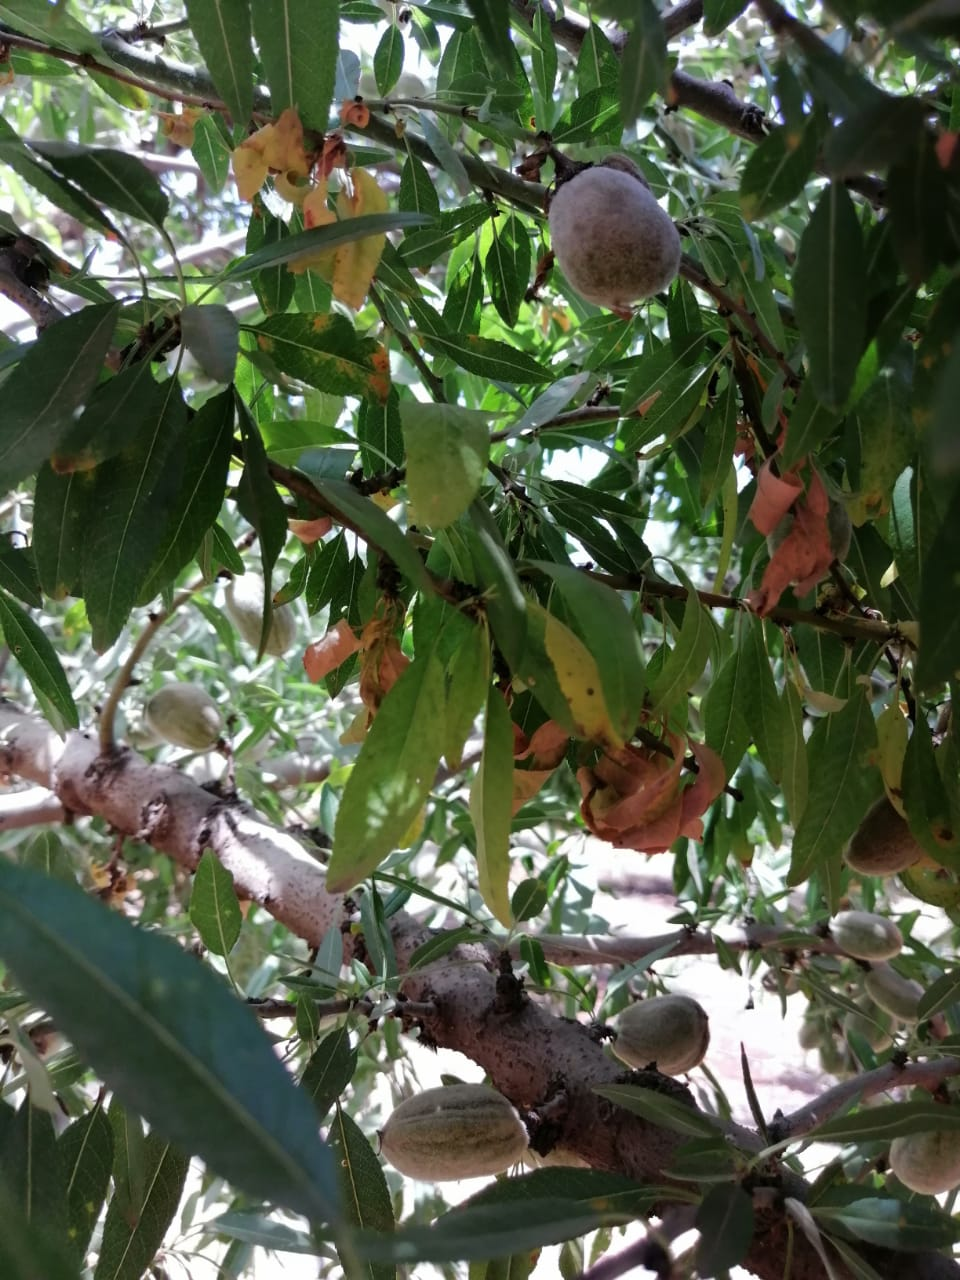coryneum: (75, 242, 407, 880), (499, 141, 905, 434), (319, 425, 478, 985), (228, 23, 468, 322), (448, 944, 652, 1280), (149, 1027, 324, 1219)
